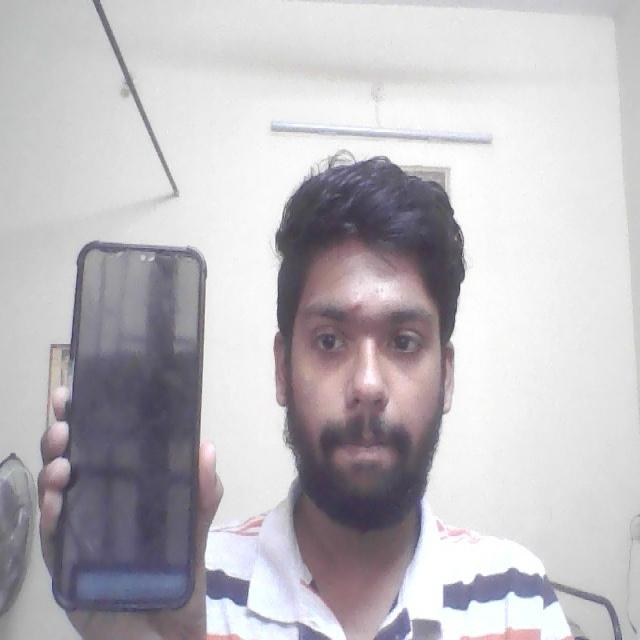Mobile: (48, 233, 211, 618)
